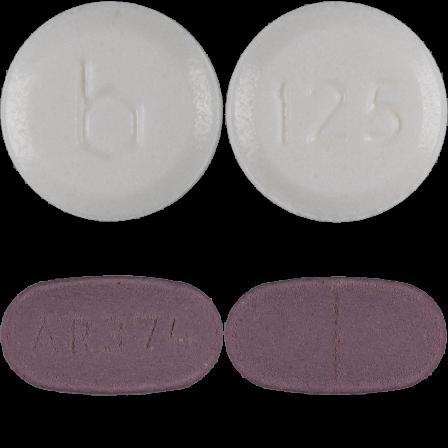54868-6251: (0, 0, 224, 224)
